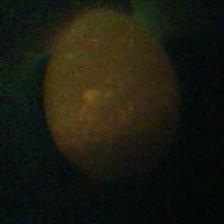fertile: (44, 7, 180, 194)
